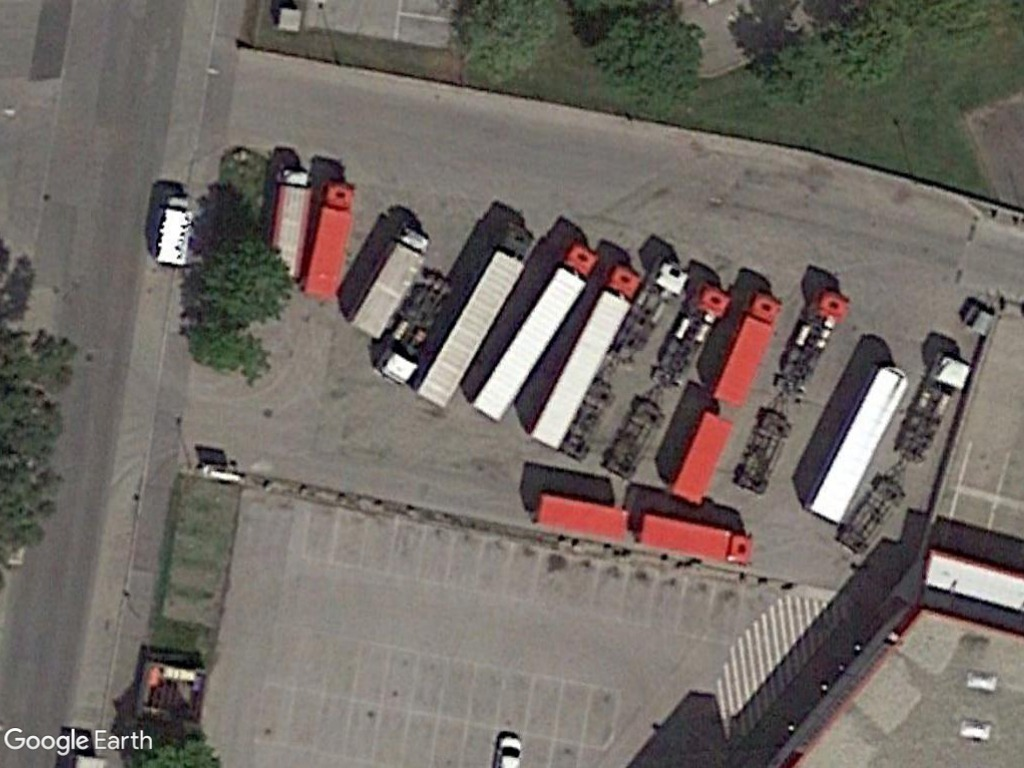longvehicle: (465, 245, 604, 424), (414, 229, 541, 411), (526, 265, 646, 449)
truck: (349, 227, 434, 338), (710, 294, 785, 411), (633, 509, 756, 573), (300, 178, 359, 304), (268, 166, 319, 266), (150, 192, 198, 268)
